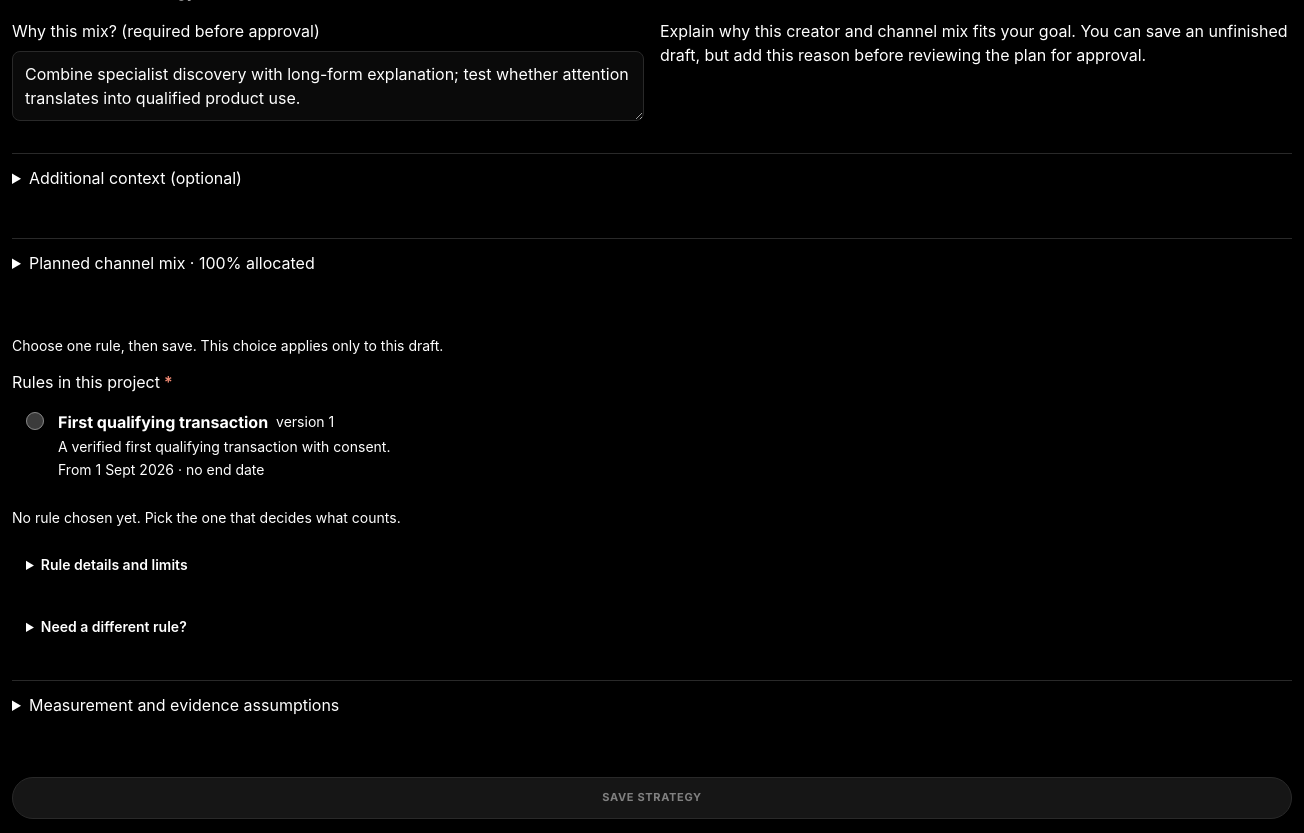
Test: BSK-08 rendered strategy editor › explicitly selects and saves a definition without changing other strategy fields
This screenshot has width=1304, height=833.
(page scrolled)
Expected: the radio button labelled "First qualifying transaction" is enabled, [26,412,44,430]
Click the heading "Need a different rule?".
click(114, 626)  # box [41,618,187,635]
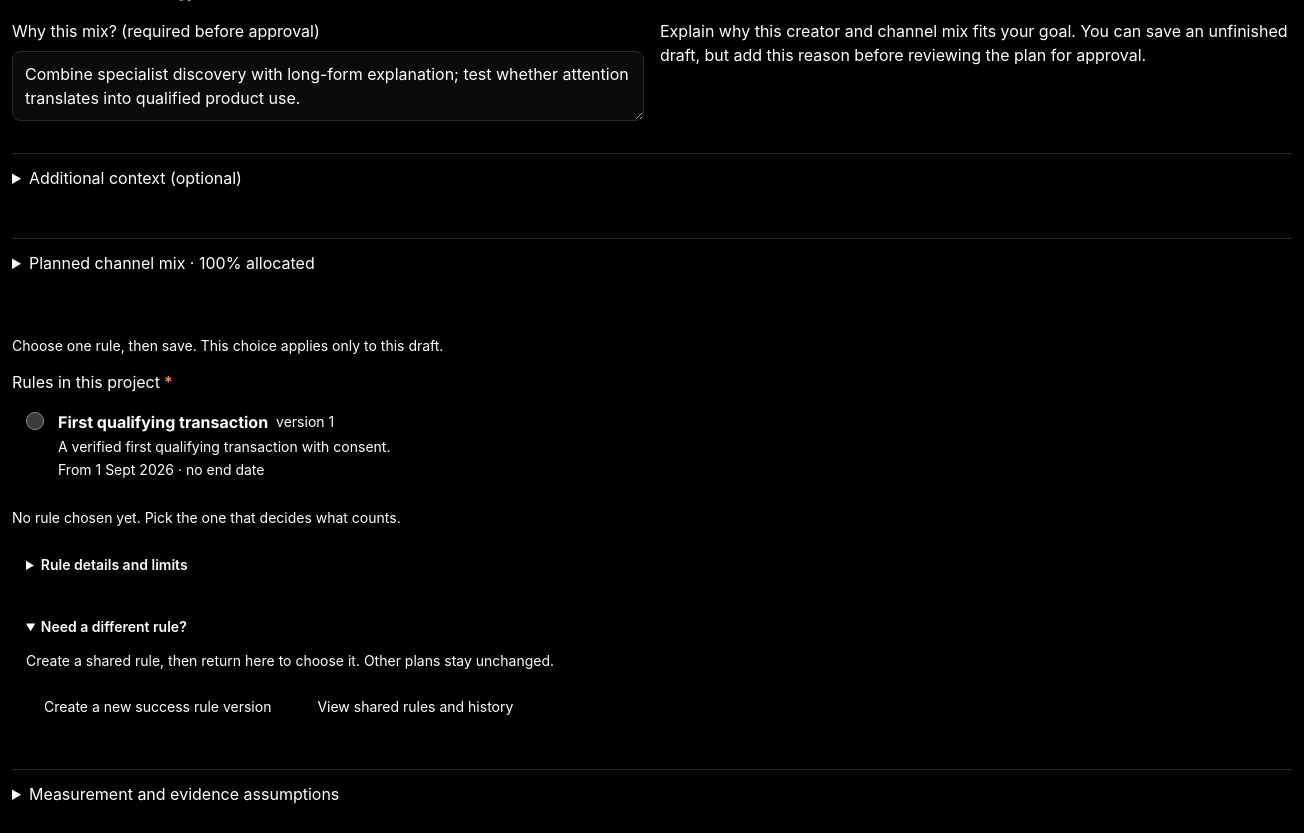
Expected: the text "No rule chosen yet. Pick the one that decides what counts." is shown, [12,509,401,526]
Click the radio button labelled "First qualifying transaction".
click(35, 421)  # box [26,412,44,430]
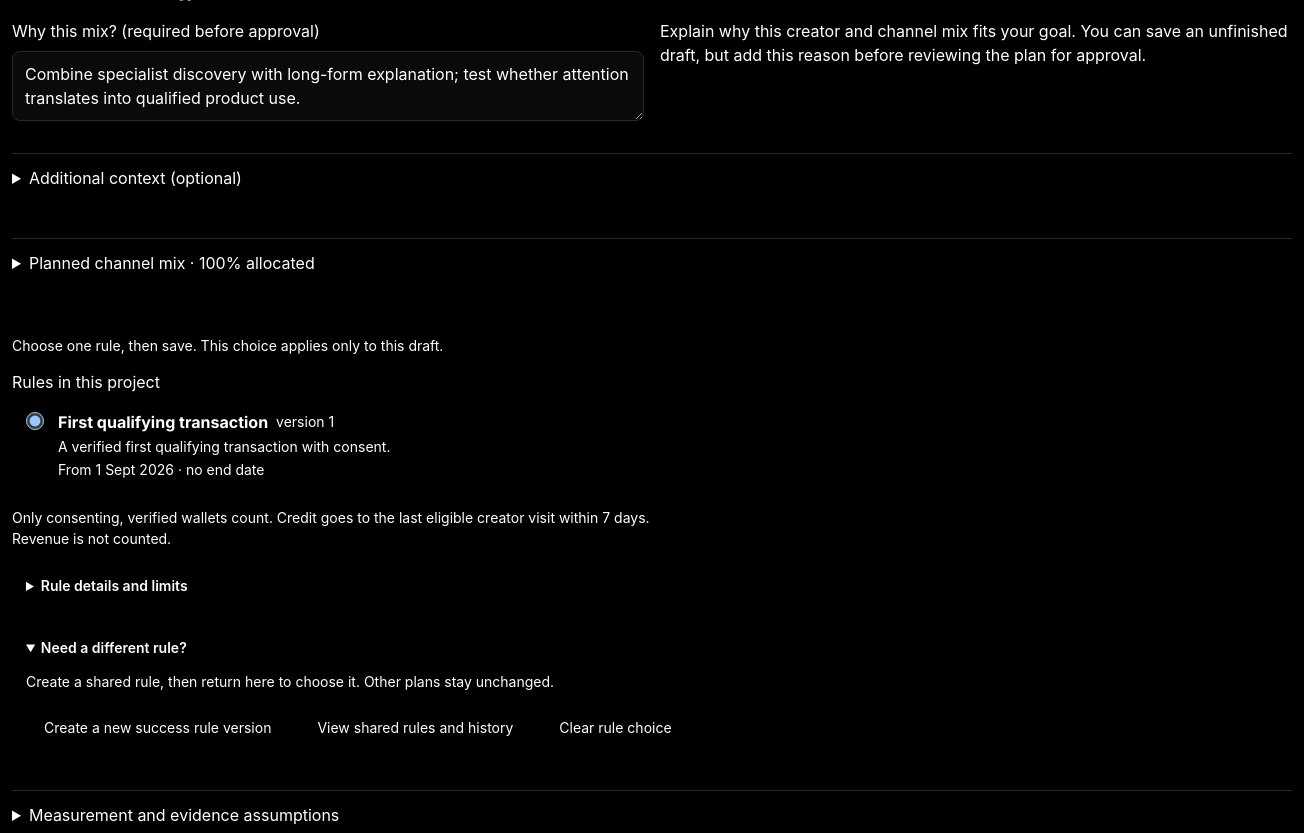
Expected: the radio button labelled "First qualifying transaction" is checked, [26,412,44,430]
Click the heading "Rule details and limits".
click(114, 585)  # box [41,577,188,594]
(page scrolled)
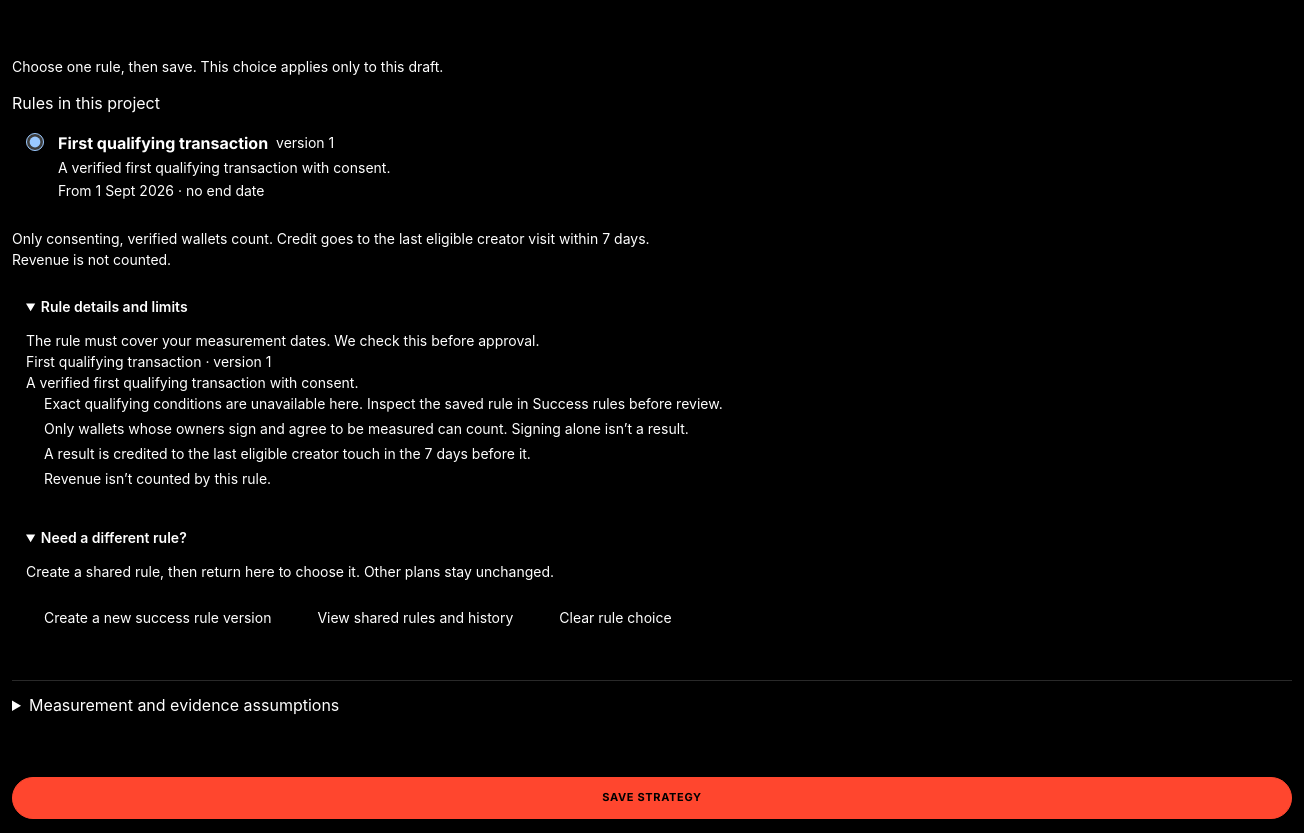
Expected: the heading "First qualifying transaction · version 1" is shown, [26,353,272,370]
Expected: the list named "How this rule measures" shows "Signing alone isn’t a result.", [44,420,689,437]
Click the button "Save strategy".
click(652, 798)  # box [12,777,1292,819]
(page scrolled)
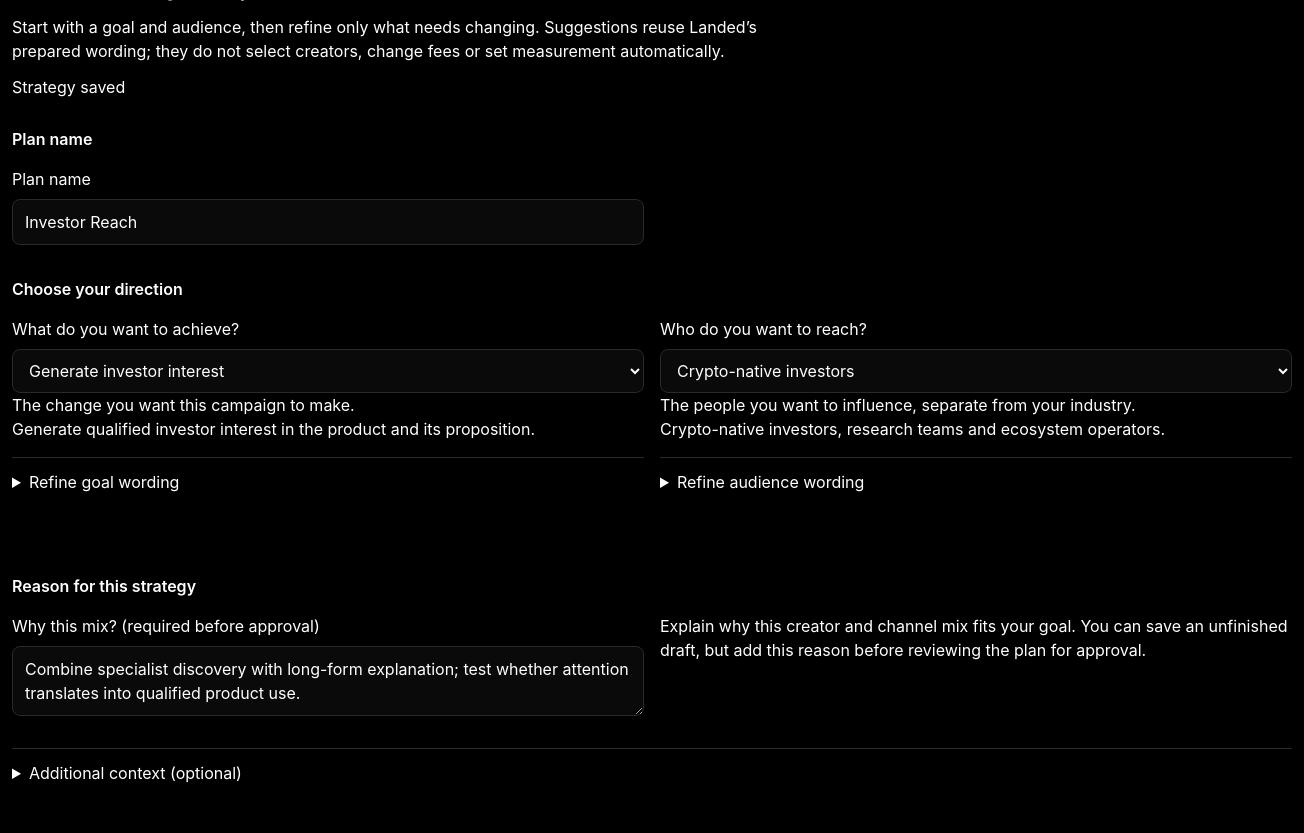
Expected: the text "Strategy saved" is shown, [12,77,125,97]
